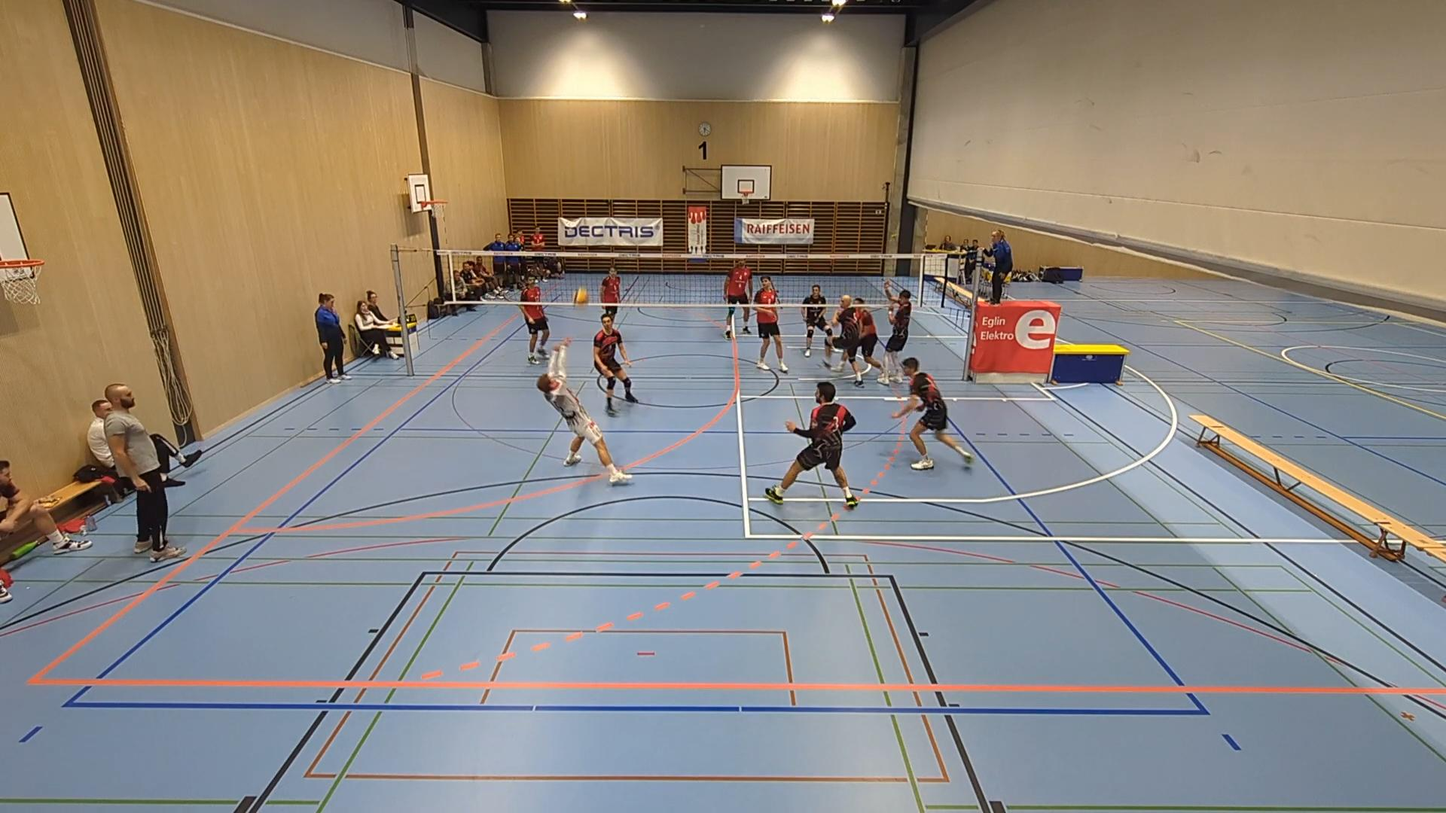Dig: (534, 338, 635, 487)
Player: (764, 382, 859, 508), (892, 358, 973, 470), (593, 313, 636, 415), (753, 276, 788, 373), (879, 281, 911, 383), (831, 294, 865, 386), (519, 279, 549, 364), (802, 285, 832, 356), (724, 262, 752, 338), (854, 298, 881, 373), (600, 264, 621, 317)
ball: (572, 286, 589, 306)
